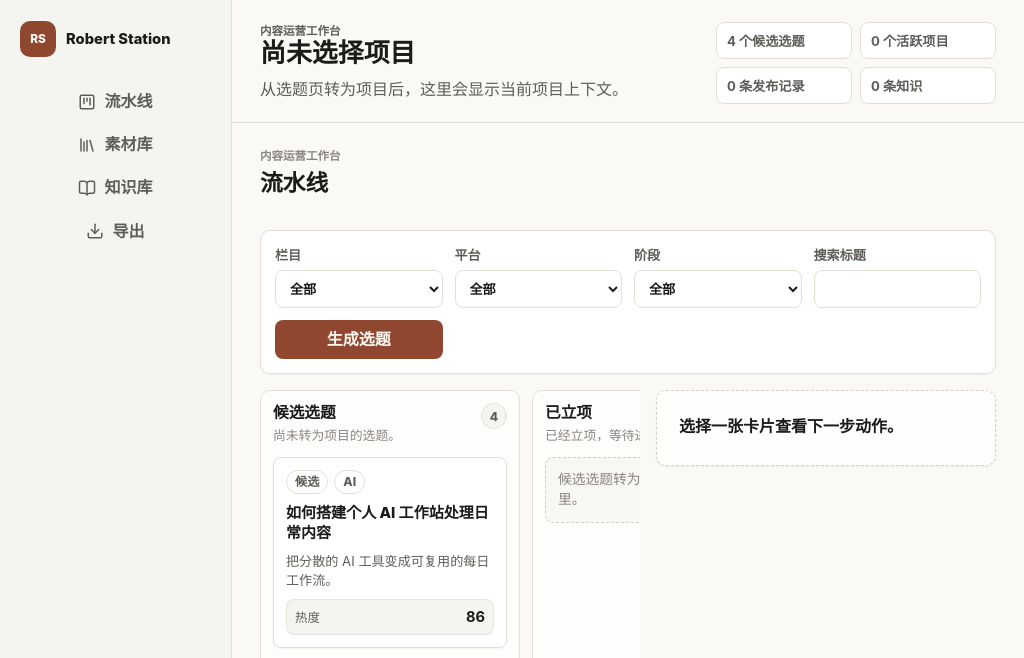
App knowledge library › shows an empty state when no knowledge items exist
expect the heading "流水线" is shown: met, box [260, 169, 328, 196]
Click the button "知识库" at (116, 188), box [14, 168, 217, 208]
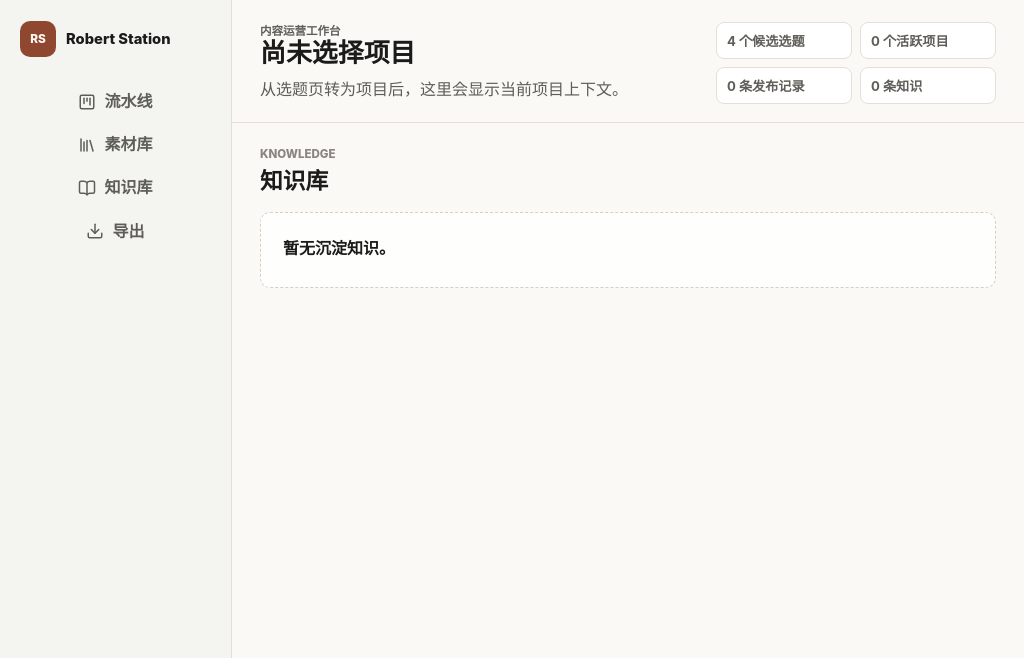
expect the heading "知识库" is shown: met, box [260, 167, 328, 194]
expect the heading "暂无沉淀知识。" is shown: met, box [283, 238, 395, 258]
